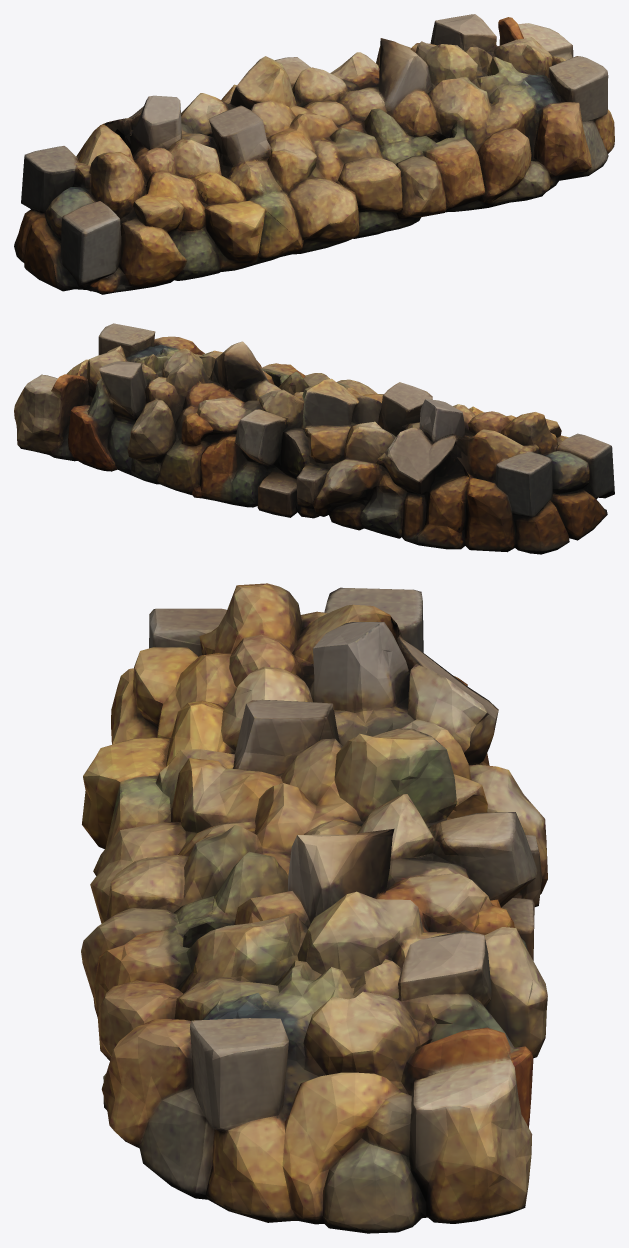
File: hb_breakwater.glb
3 renders of one model, top to bottom at view 1: azimuth 30°, elevation 25°; view 2: azimuth 150°, elevation 25°; view 3: azimuth 270°, elevation 25°, orthographic. The views are drawn at different scales.
Parts seen in each view (by area): view 1: world; view 2: world; view 3: world.
Boxes of the visible parts, x1,y1,x2,y2 form: world: (14,14,614,294); world: (14,323,614,554); world: (81,583,547,1233).
Bounding box in the file's own units: 0.9984 × 0.212 × 0.3833.
Materials: 1 (1 with a texture image).
